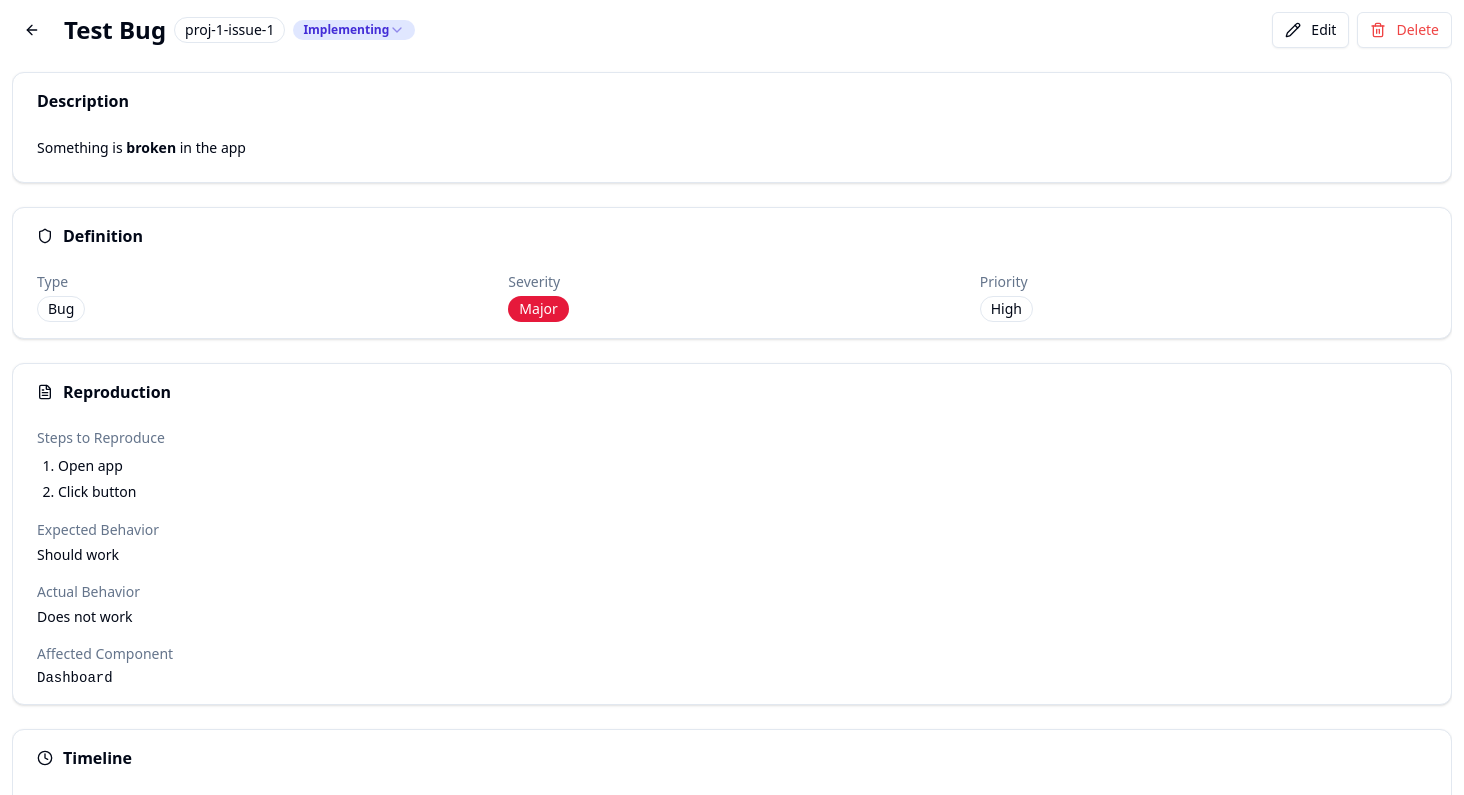
Test: IssueDetailPage › save with no changes exits edit mode without PATCH
expect the heading "Test Bug" is shown: met, box [64,14,166,46]
Click the button "Edit" at point(1311, 30), box [1272,12,1350,48]
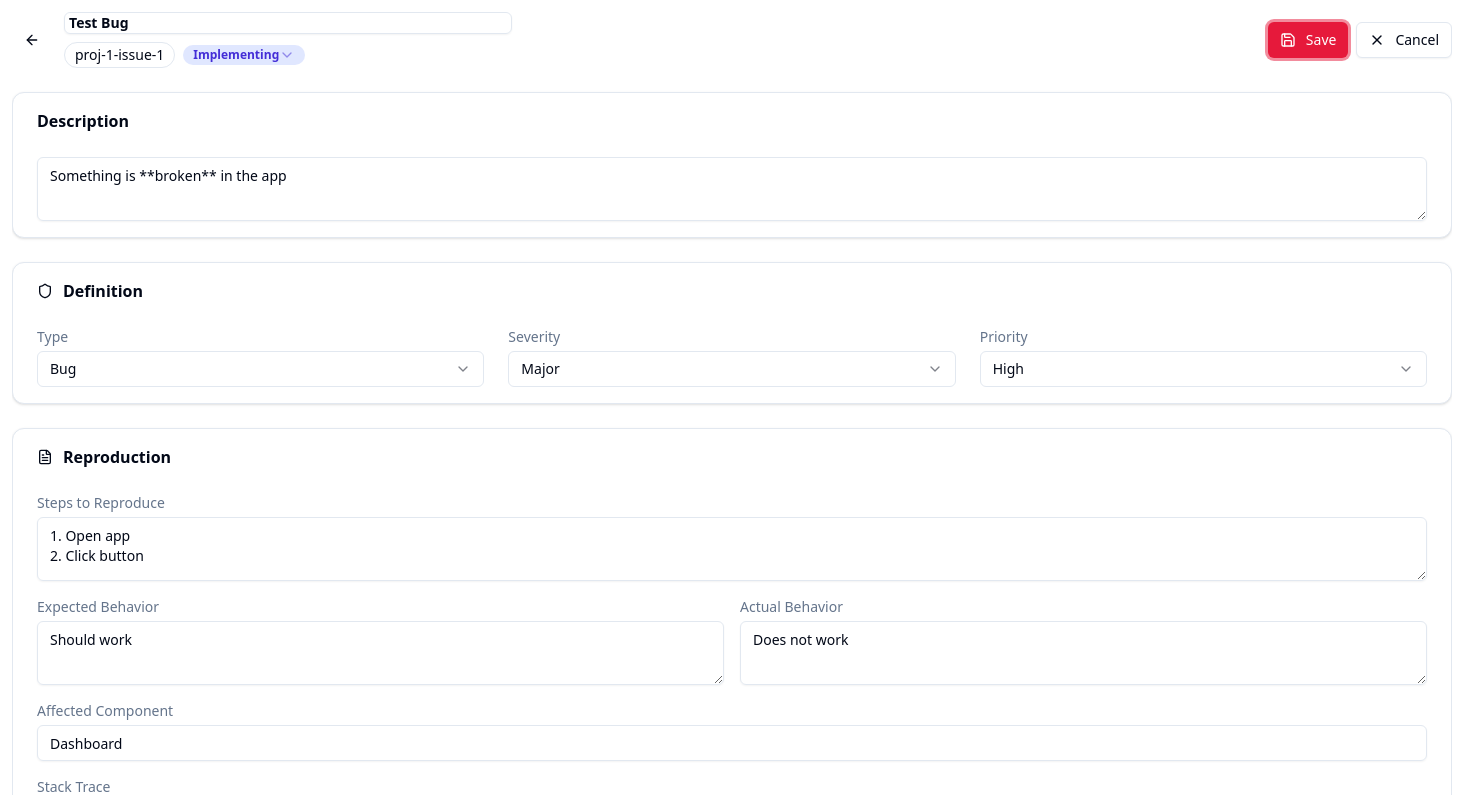
expect the button "Save" is shown: met
Click the button "Save" at point(1308, 40), box [1268,22,1348,58]
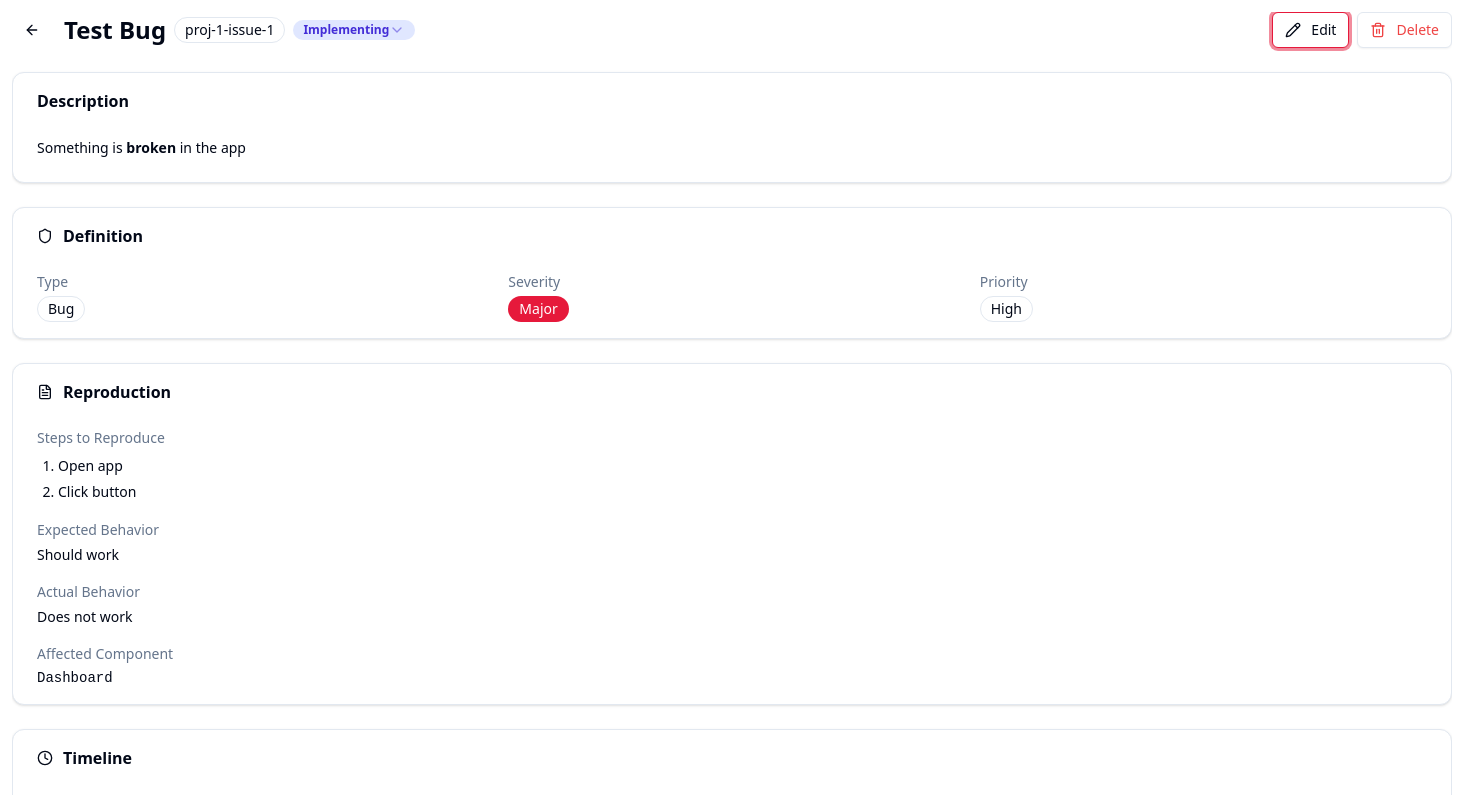
expect the button "Edit" is shown: met, box [1272,12,1350,48]
